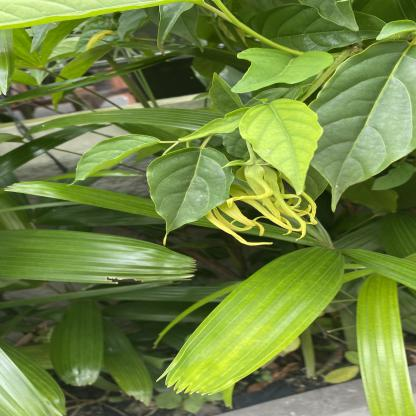Kenanga: (208, 161, 313, 240)
